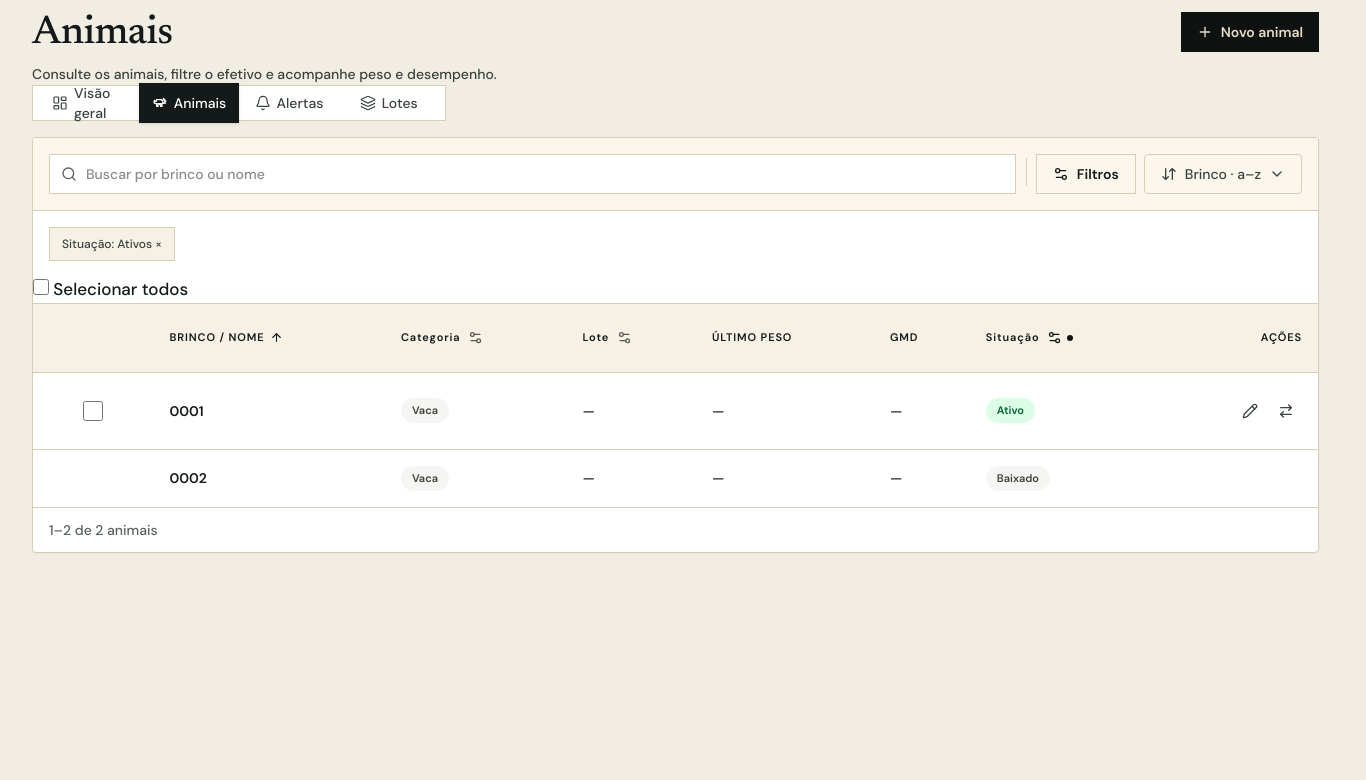
Scenario: ListaAnimais › animal baixado não tem checkbox nem ações de editar/movimentar (K3)
The width and height of the screenshot is (1366, 780).
Expected: the checkbox named "Selecionar 0001" is shown, left=83, top=400, right=103, bottom=420
Expected: the button named "Editar 0001" is shown, left=1234, top=394, right=1266, bottom=426
Click the checkbox named "Selecionar todos os animais desta página": point(41, 287) left=33, top=279, right=49, bottom=295
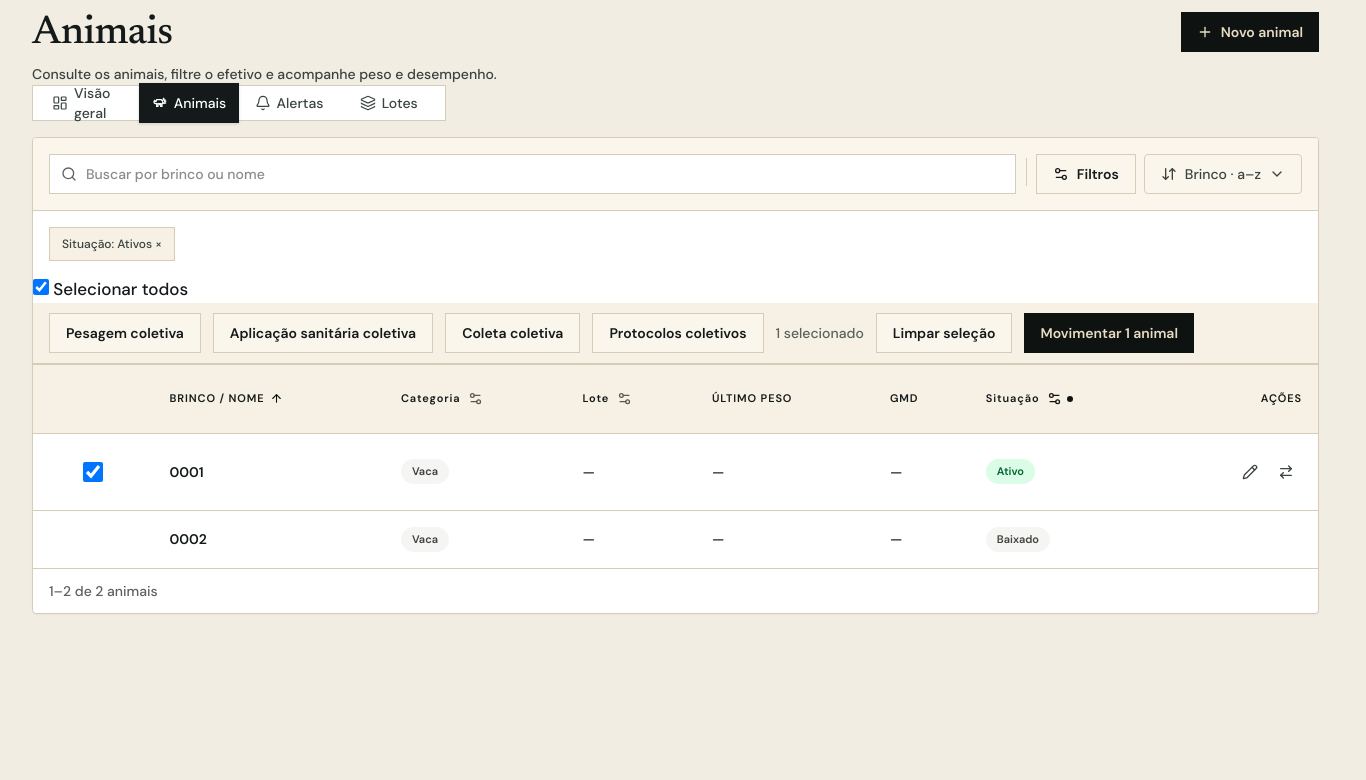
Expected: the checkbox named "Selecionar 0001" is checked, left=83, top=462, right=103, bottom=482
